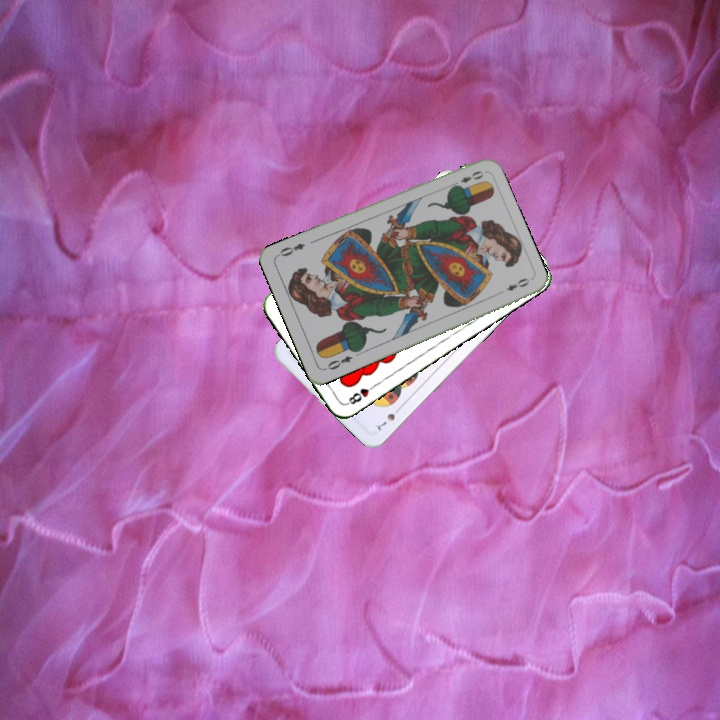EO: (448, 167, 486, 190), (323, 352, 355, 373)
H8: (343, 380, 379, 408)
S7: (373, 402, 404, 433)
